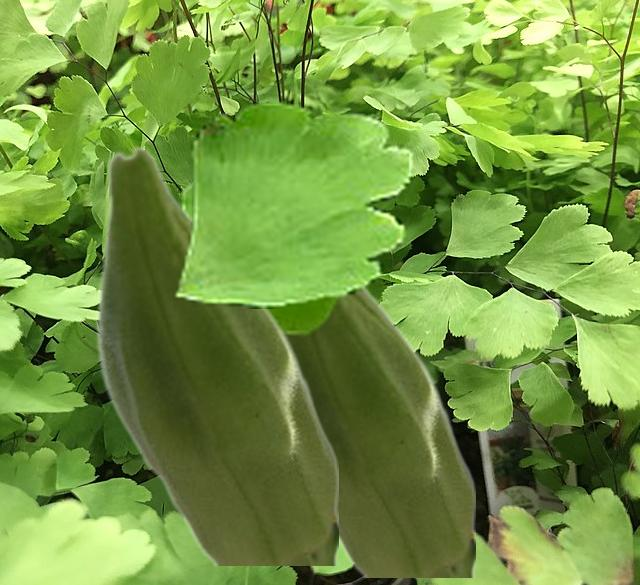okra: (95, 145, 337, 564), (290, 287, 474, 576)
